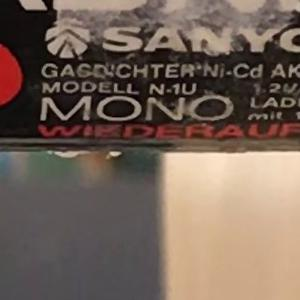NI-CD: (195, 55, 272, 81)
